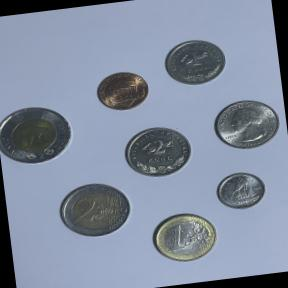coin: (0, 97, 80, 172), (53, 176, 137, 246), (206, 92, 286, 157), (120, 121, 198, 184), (147, 207, 223, 269), (91, 65, 154, 116), (211, 166, 272, 216)
